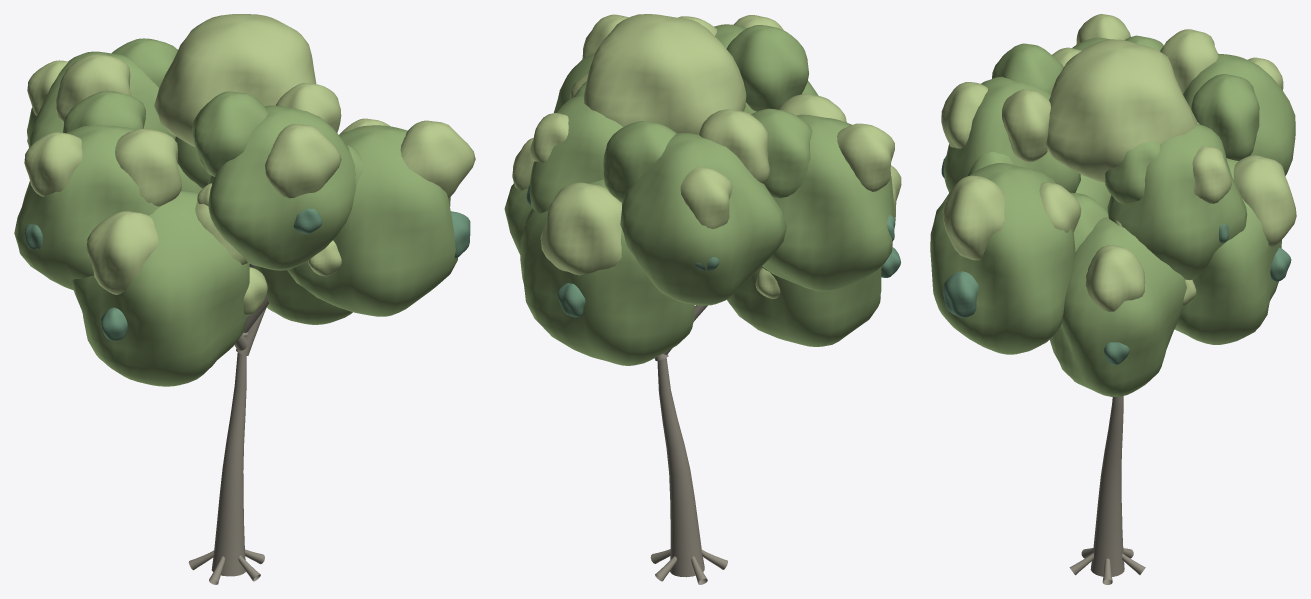
Rendered from diotree22.glb.
The picture shows the model from 3 angles, left to right: view 1: azimuth 30°, elevation 25°; view 2: azimuth 150°, elevation 25°; view 3: azimuth 270°, elevation 25°; orthographic projection. The views are drawn at different scales.
Parts seen in each view (by area): view 1: DioTree22_DioLeaf, DioTree22_DioLeafLight, DioTree22_Trunk, DioTree22_DioLeafShade; view 2: DioTree22_DioLeaf, DioTree22_DioLeafLight, DioTree22_Trunk, DioTree22_DioLeafShade; view 3: DioTree22_DioLeaf, DioTree22_DioLeafLight, DioTree22_Trunk, DioTree22_DioLeafShade.
Part boxes in pixels (x1,y1,x2,y2): DioTree22_DioLeaf: (14,38,457,386); DioTree22_DioLeafLight: (24,14,475,316); DioTree22_Trunk: (188,264,268,584); DioTree22_DioLeafShade: (24,139,470,341); DioTree22_DioLeaf: (504,24,894,365); DioTree22_DioLeafLight: (512,14,901,298); DioTree22_Trunk: (650,305,727,584); DioTree22_DioLeafShade: (526,185,900,317); DioTree22_DioLeaf: (930,35,1295,396); DioTree22_DioLeafLight: (941,14,1296,311); DioTree22_Trunk: (1069,396,1145,584); DioTree22_DioLeafShade: (941,156,1291,364).
Bounding box in the file's own units: 7.57 × 10.29 × 6.44.
